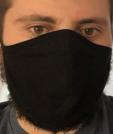with_mask: (1, 1, 113, 134)
